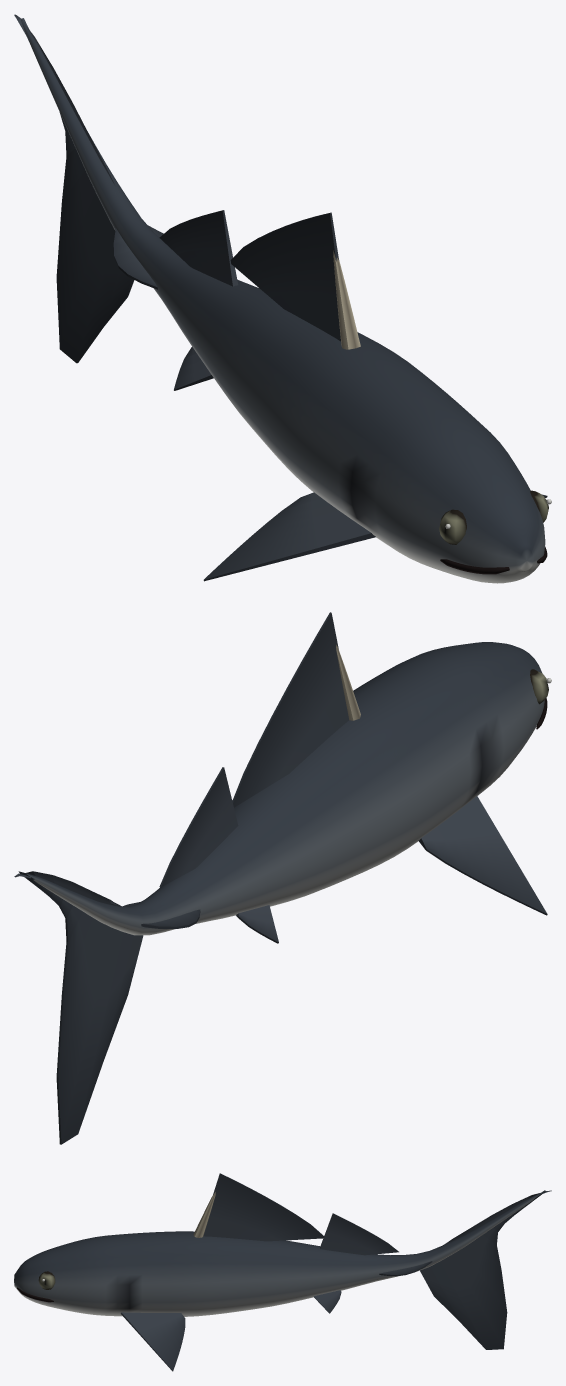
Rendered from Cladoselache.fbx.
The picture shows the model from 3 angles, top to bottom: view 1: azimuth 30°, elevation 25°; view 2: azimuth 150°, elevation 25°; view 3: azimuth 270°, elevation 25°; orthographic projection. The views are drawn at different scales.
Parts seen in each view (by area): view 1: Cladoselache; view 2: Cladoselache; view 3: Cladoselache.
Part boxes in pixels (bbox=[...]): Cladoselache: bbox=[14, 14, 551, 583]; Cladoselache: bbox=[14, 612, 551, 1144]; Cladoselache: bbox=[14, 1173, 551, 1371].
Size of the model in its own units: 0.6288 by 0.5868 by 1.62.
